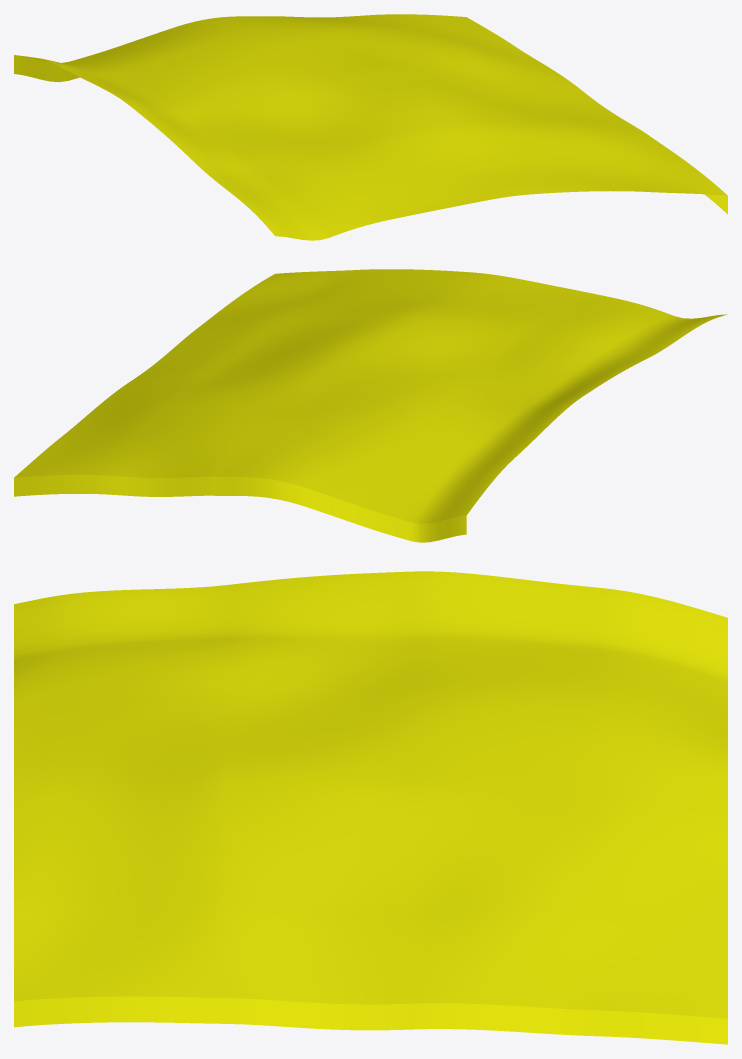
The model's file is terrain_3_3.glb.
3 renders of one model, top to bottom at view 1: azimuth 30°, elevation 25°; view 2: azimuth 150°, elevation 25°; view 3: azimuth 270°, elevation 25°, orthographic. The views are drawn at different scales.
Visible parts, largest first — view 1: terrain_3_3.0, terrain_3_3.1; view 2: terrain_3_3.0, terrain_3_3.1; view 3: terrain_3_3.0, terrain_3_3.1.
Boxes of the visible parts, x1,y1,x2,y2 form: terrain_3_3.0: (18, 14, 727, 240); terrain_3_3.1: (14, 55, 727, 214); terrain_3_3.0: (14, 269, 726, 523); terrain_3_3.1: (14, 475, 466, 542); terrain_3_3.0: (14, 571, 727, 1018); terrain_3_3.1: (14, 996, 727, 1044).
Bounding box in the file's own units: 50 × 13.26 × 50.
